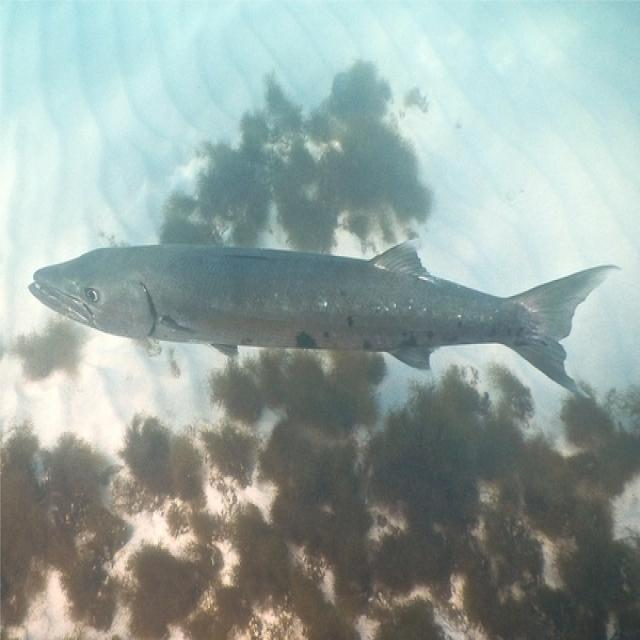Barracuda: (27, 234, 623, 403)
